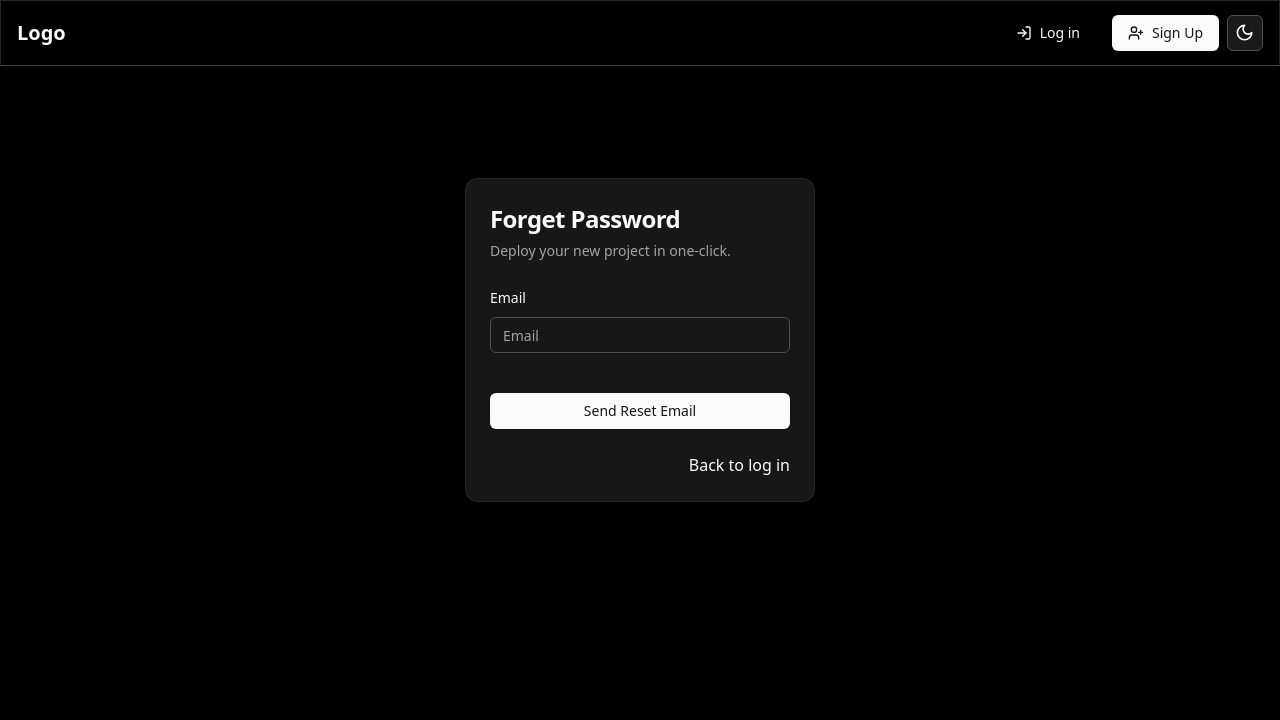
Test: ForgetPassword Component › shows error for invalid email
In the field with placeholder "Email": [640, 335] box [490,317,790,353], type "invalidemail"
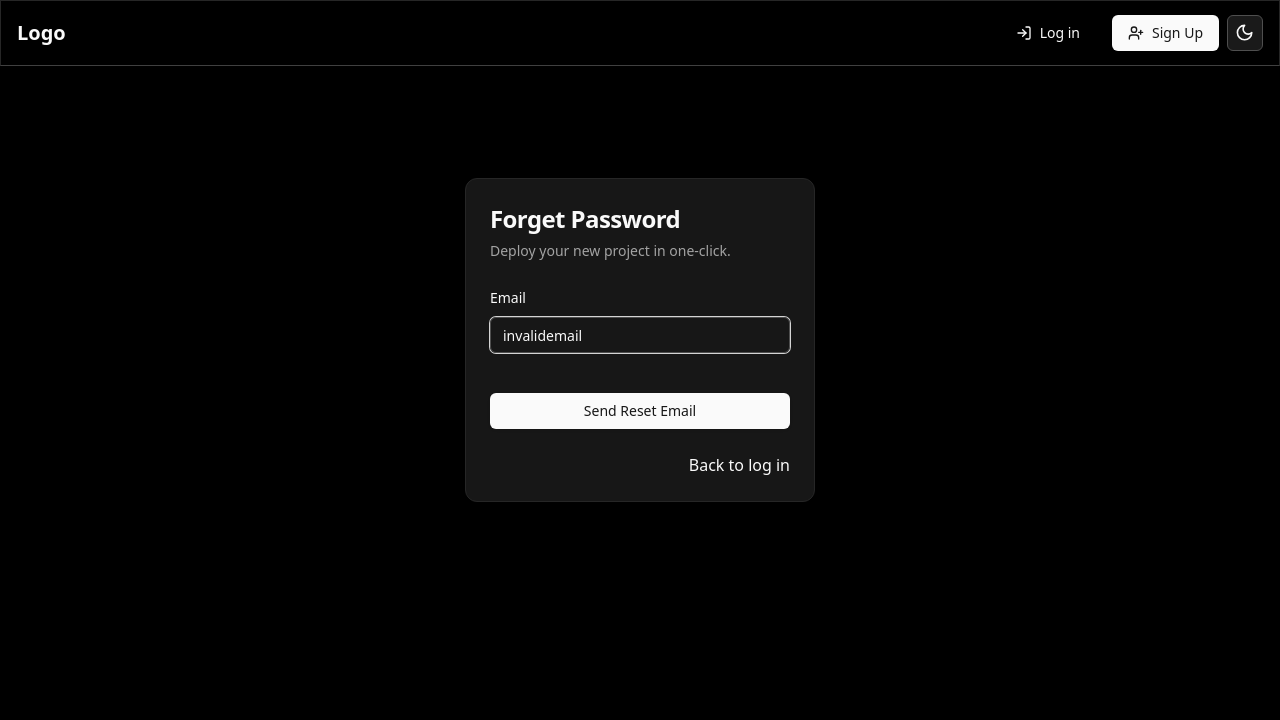
Click the button "Send Reset Email": [640, 411] box [490,393,790,429]
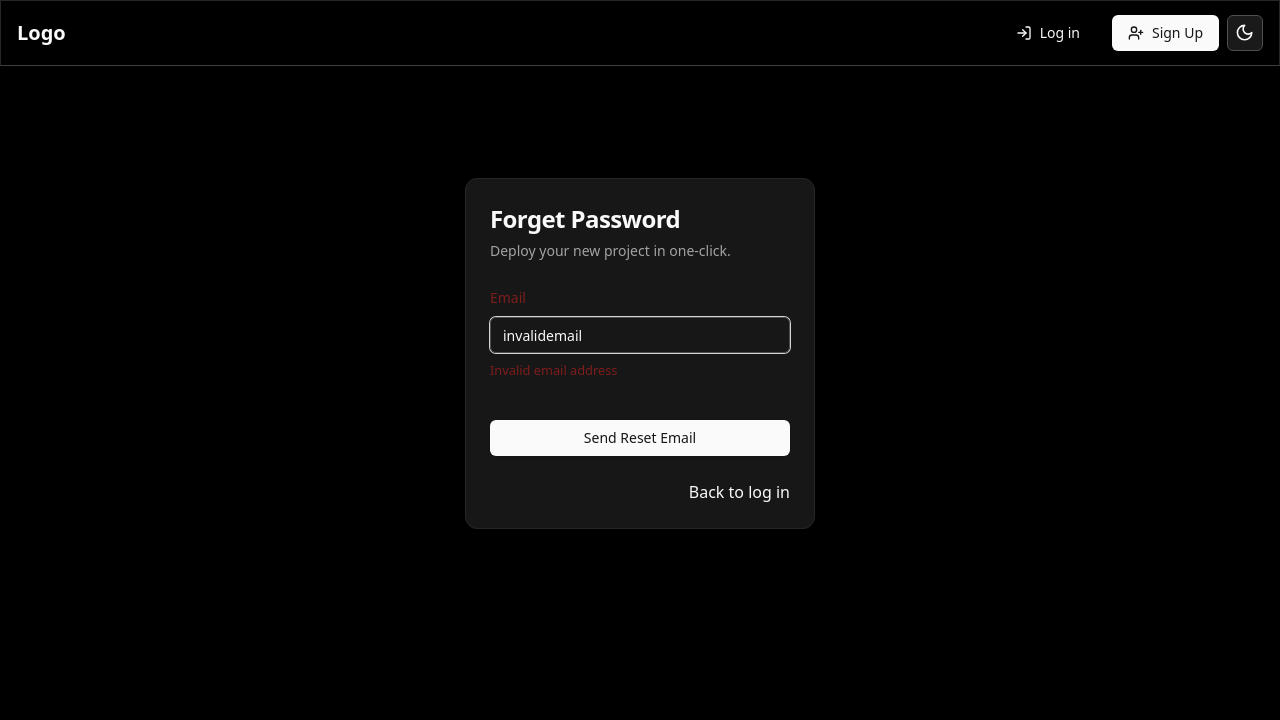
Now the text "Invalid email address" is shown, box [490,361,618,379]
